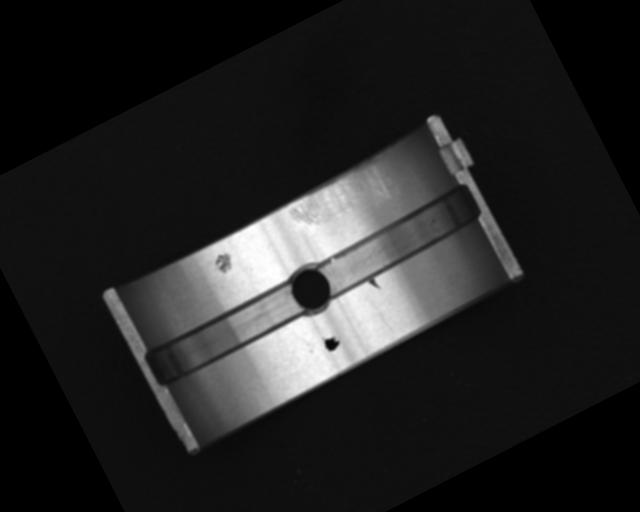blot: (320, 331, 343, 354)
bruise: (210, 249, 239, 278), (365, 276, 381, 293)
gap: (310, 181, 483, 300), (139, 275, 312, 392)
hole: (281, 256, 341, 320)
nick: (370, 297, 394, 334)
scratch: (283, 154, 399, 239)
